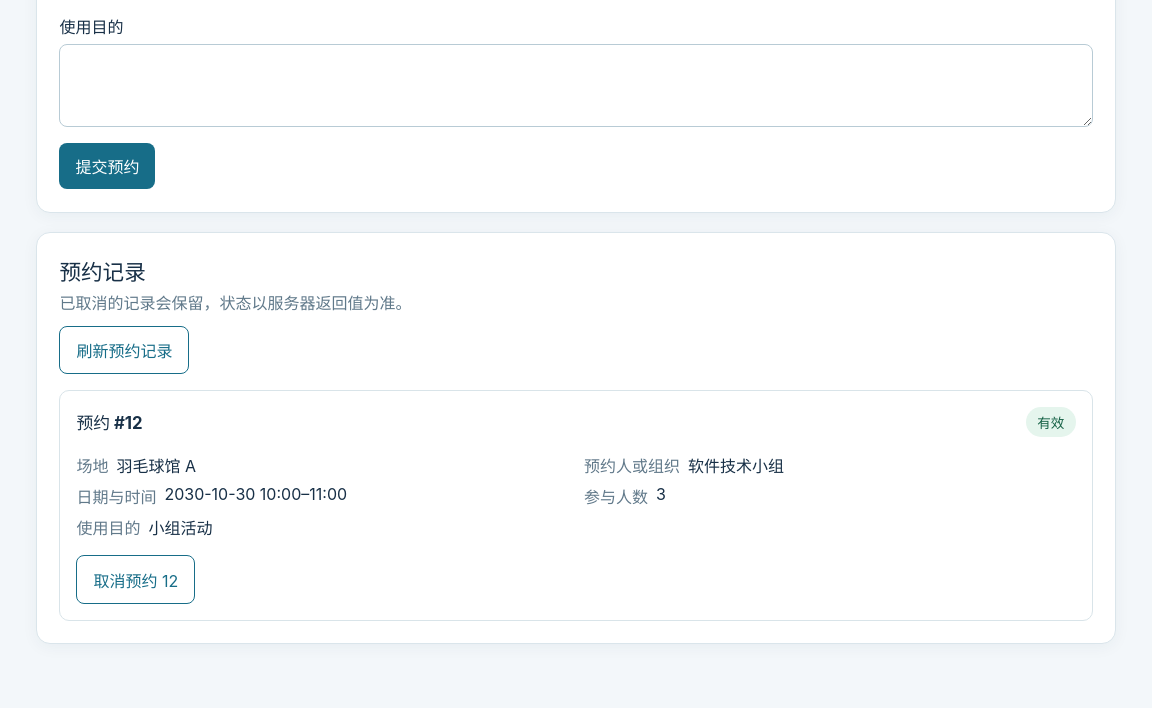
it: 场地预约页面 › 取消请求断网时保留原状态，刷新后采用服务器状态
(page scrolled)
Click the button "取消预约 12" at (136, 580), box [76, 555, 195, 604]
(page scrolled)
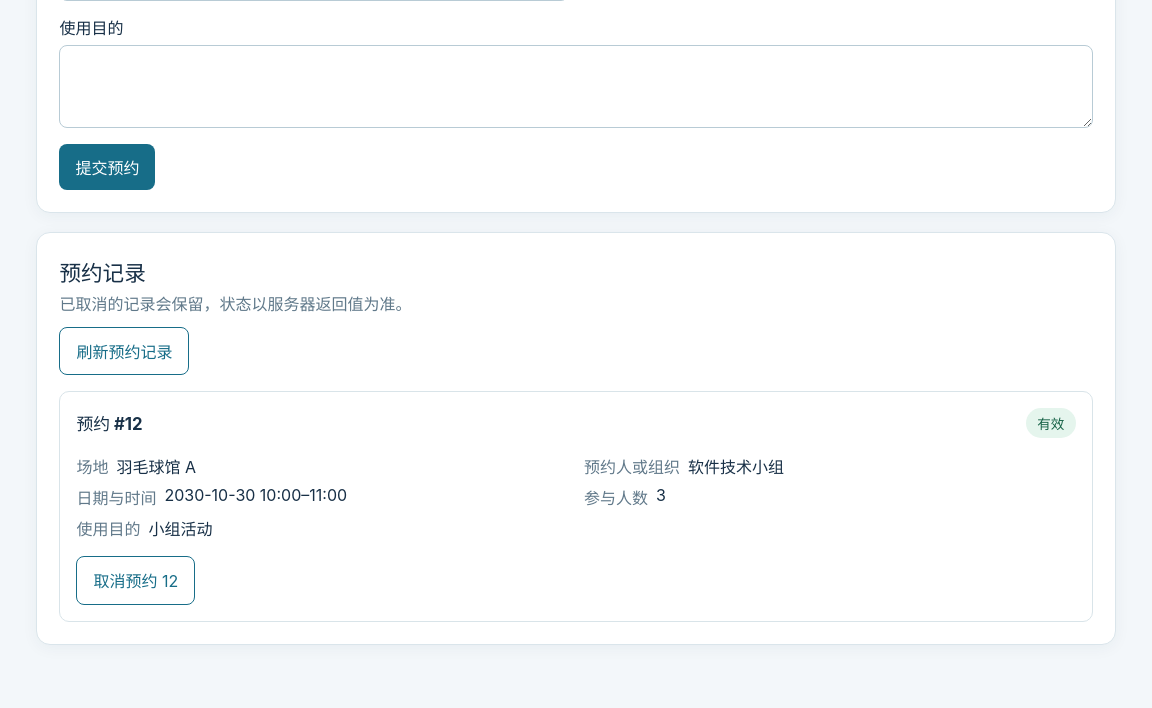
Expected: the text "有效" is shown, [1026, 408, 1076, 438]
Click the button "刷新预约记录" at (124, 351), box [59, 327, 189, 375]
(page scrolled)
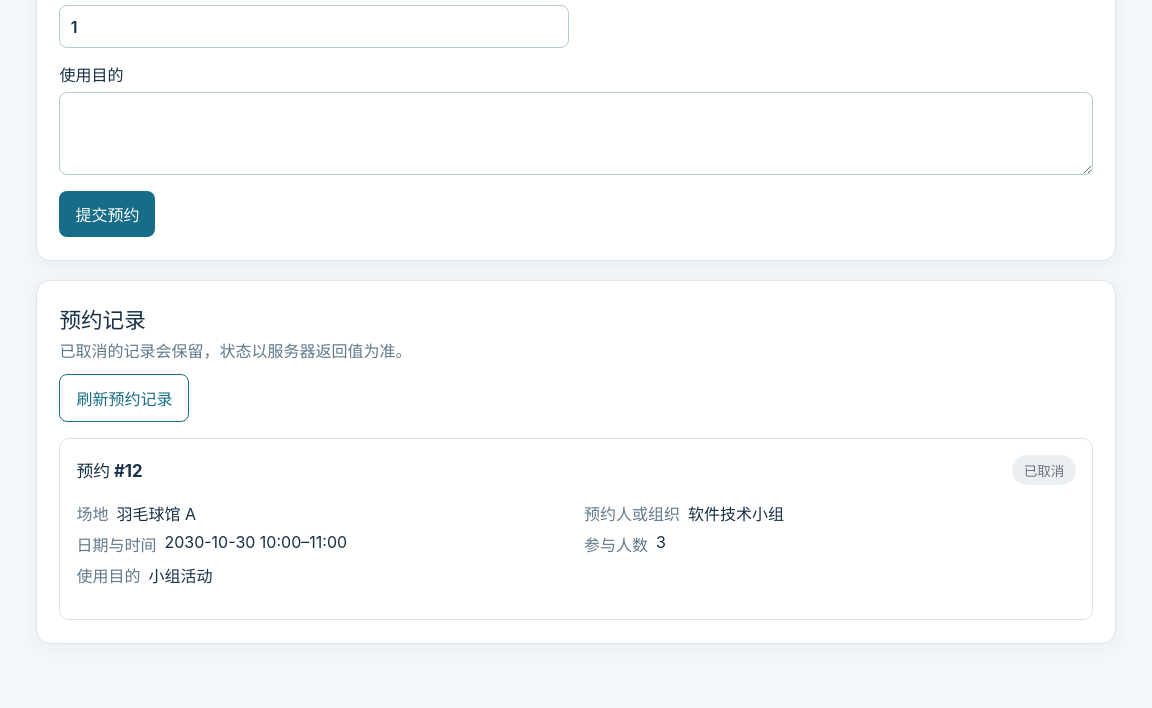
Result: the text "已取消" is shown at [1012, 456, 1076, 485]
